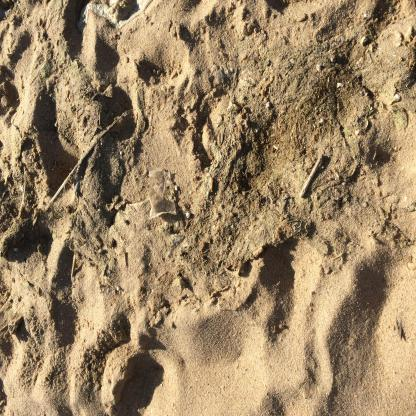plastik: (150, 167, 179, 221)
